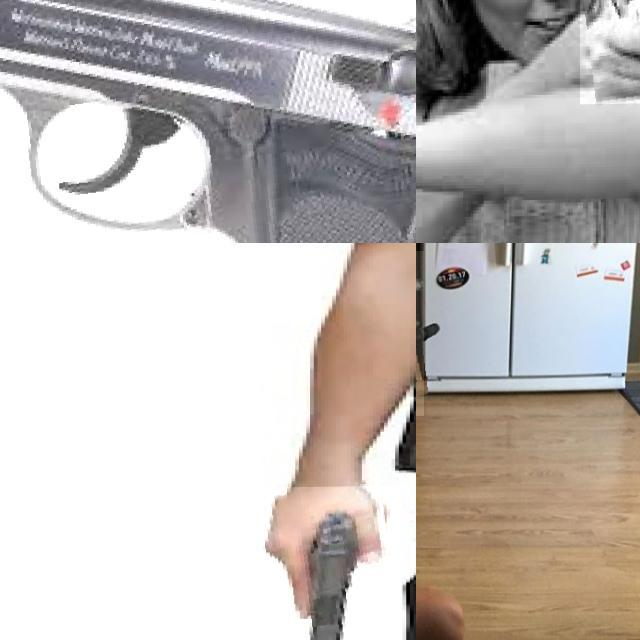gun-knife-thesis - v11 Yolov5 augmented: (0, 0, 416, 243), (416, 243, 608, 414), (255, 486, 401, 640), (416, 252, 537, 420), (416, 310, 498, 467)
